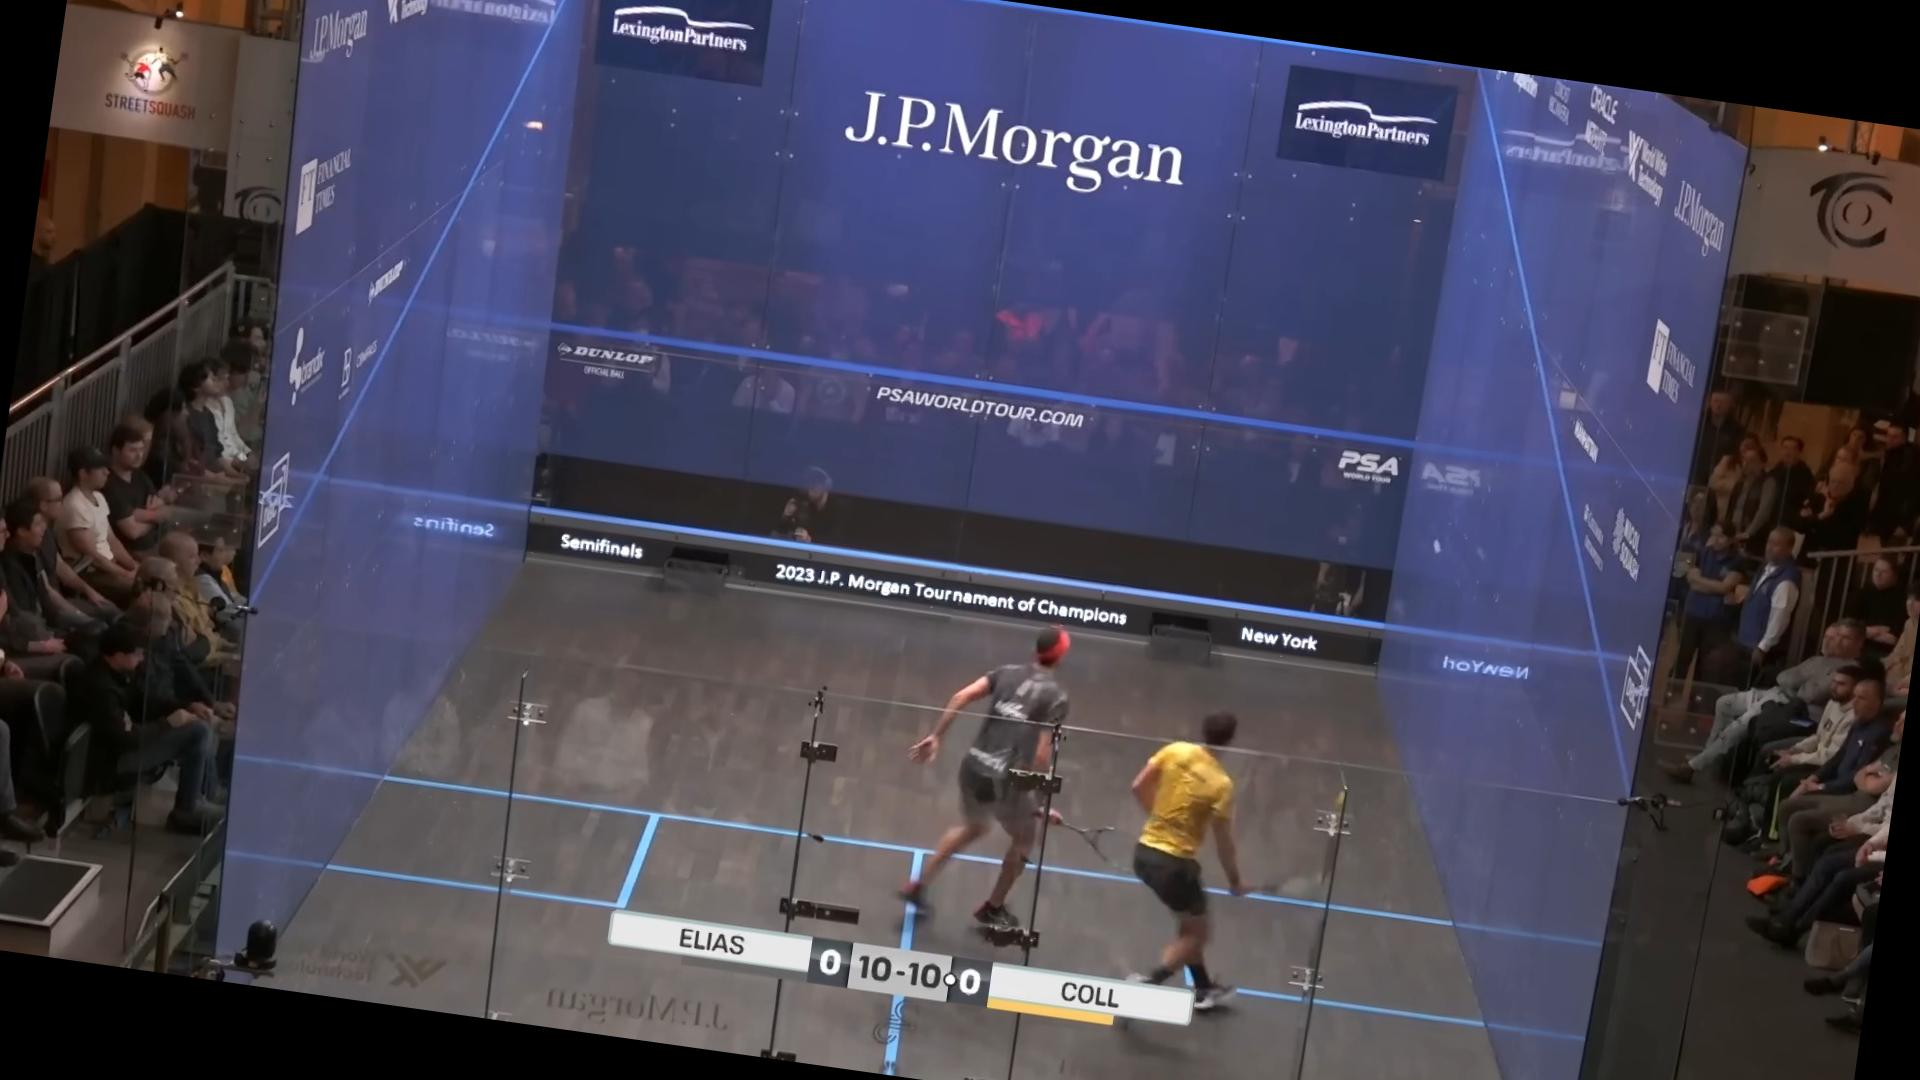Racket: (1039, 807, 1153, 881), (1240, 855, 1338, 910)
